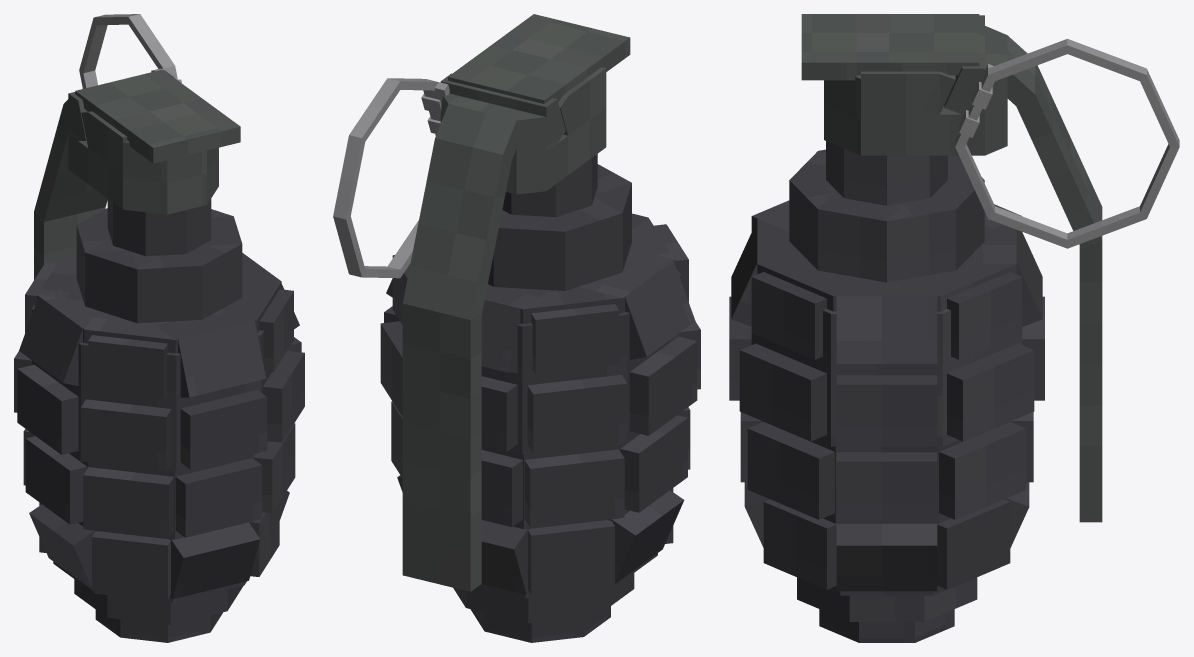
The model's file is light_grenade.fbx.
The picture shows the model from 3 angles, left to right: view 1: azimuth 30°, elevation 25°; view 2: azimuth 150°, elevation 25°; view 3: azimuth 270°, elevation 25°; orthographic projection. The views are drawn at different scales.
Parts seen in each view (by area): view 1: octagon_49, octagon_50, octagon_52, octagon_51, octagon_58, octagon_35, octagon_40, octagon_45, octagon_14, octagon_48, octagon, octagon_32 (+36 smaller); view 2: octagon_62, octagon_61, octagon_46, octagon_43, octagon_58, octagon_44, octagon_47, octagon_32, octagon_13, octagon_12, octagon_37, octagon_33 (+36 smaller); view 3: octagon_32, octagon_37, octagon_58, octagon_39, octagon_34, octagon_62, octagon_50, octagon_46, octagon_49, octagon_43, octagon, octagon_61 (+45 smaller).
Boxes of the visible parts, x1,y1,x2,y2 form: octagon_49: (80,399,171,470); octagon_50: (83,467,173,538); octagon_52: (175,458,262,537); octagon_51: (180,390,267,469); octagon_58: (75,69,215,140); octagon_35: (178,320,265,397); octagon_40: (169,522,260,599); octagon_45: (92,531,170,599); octagon_14: (132,248,202,323); octagon_48: (88,335,167,398); octagon: (107,199,211,256); octagon_32: (17,337,301,454); octagon_62: (402,303,481,591); octagon_61: (402,138,512,320); octagon_46: (527,374,627,453); octagon_43: (524,449,624,528); octagon_58: (448,33,603,103); octagon_44: (528,520,614,594); octagon_47: (531,304,619,374); octagon_32: (384,306,697,435); octagon_13: (493,215,569,290); octagon_12: (537,197,622,290); octagon_37: (620,415,687,512); octagon_33: (625,261,695,359); octagon_32: (836,375,937,445); octagon_37: (836,452,937,522); octagon_58: (856,14,979,75); octagon_39: (836,523,937,591); octagon_34: (836,296,937,363); octagon_62: (1079,241,1102,522); octagon_50: (939,422,1026,519); octagon_46: (739,343,826,441); octagon_49: (947,343,1034,441); octagon_43: (747,422,834,519); octagon: (826,141,947,205); octagon_61: (1016,65,1102,248).
Bounding box in the file's own units: 21.88 × 46.06 × 31.22.
Materials: 3 (3 with a texture image).
